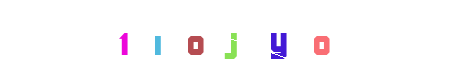1: (84, 0, 164, 80)
I: (149, 0, 229, 80)
J: (194, 0, 274, 80)
O: (192, 0, 272, 80), (238, 0, 318, 80)
Y: (216, 0, 296, 80)
